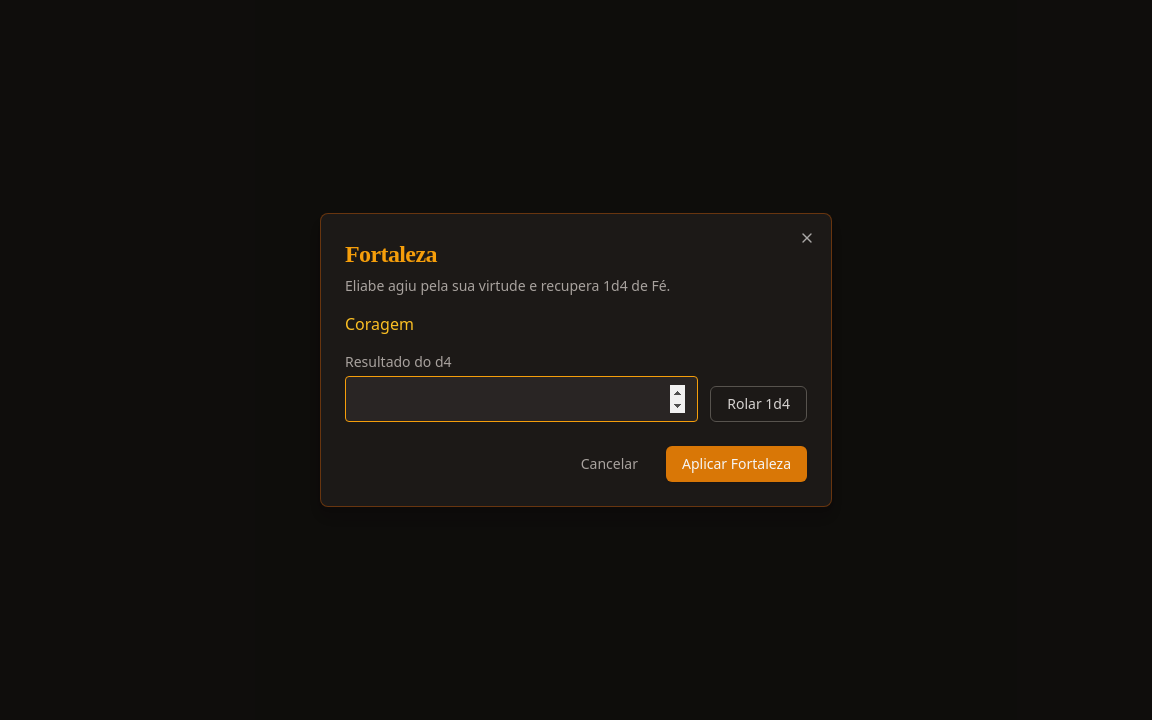
Test: FortitudeDialog › o d4 "" é recusado e nada é aplicado
Step 1. Click the button "Aplicar Fortaleza" → (736, 464), box [666,446,807,482]
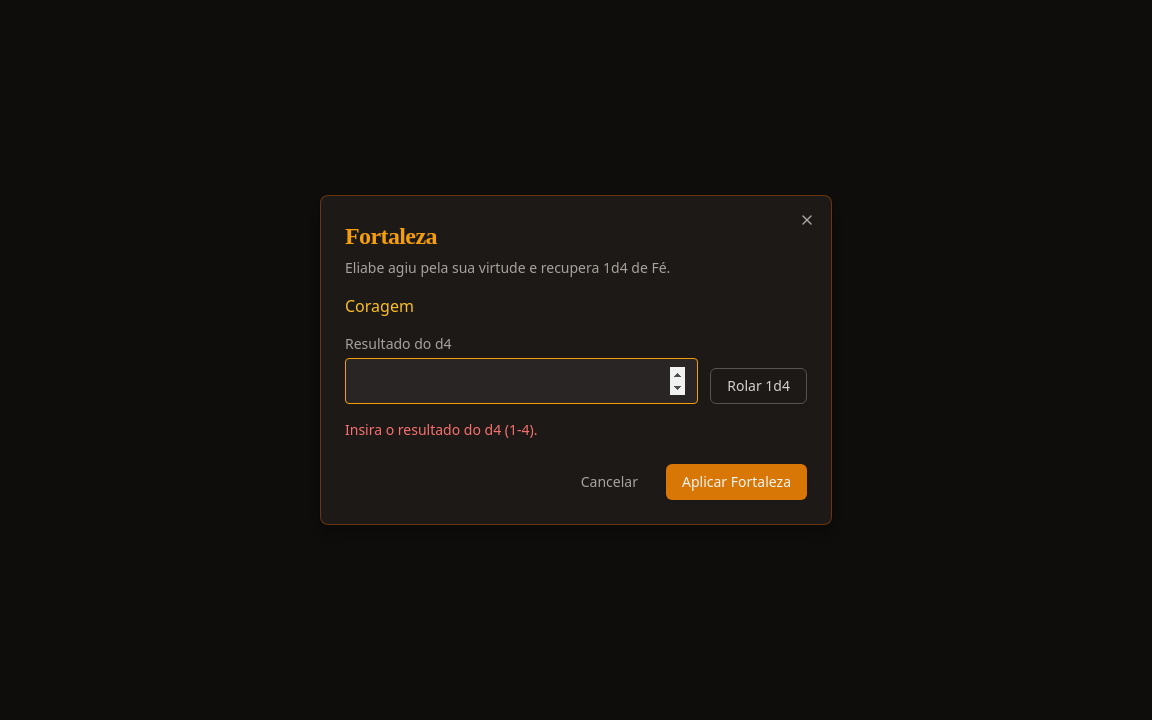
Expected: the text "Insira o resultado do d4 (1-4)." is shown, [345,420,538,439]
